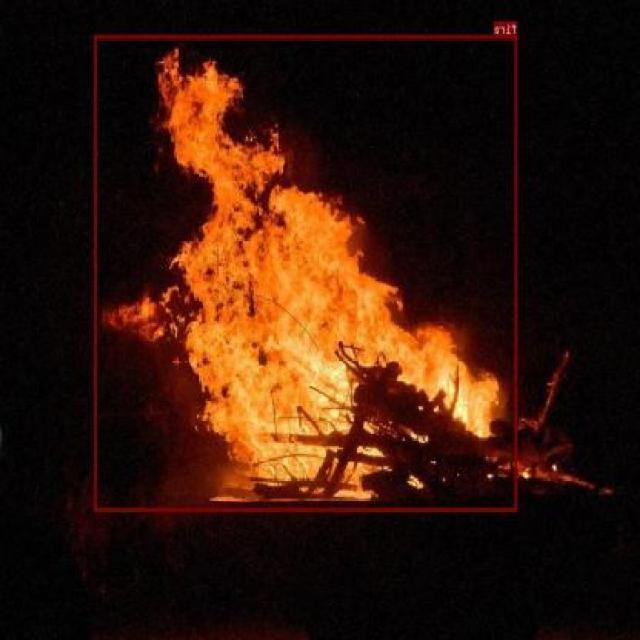Fire: (94, 34, 518, 511)
